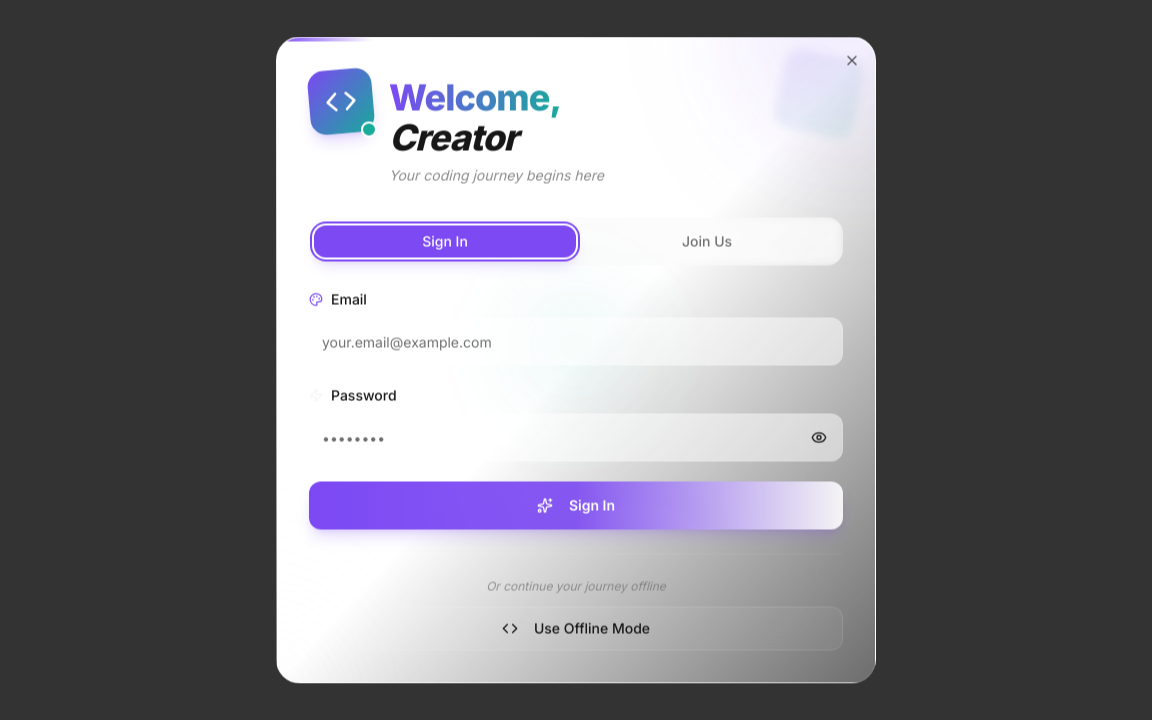
AuthModal › should handle login error
Type "wrong@example.com" into the field labelled "Email". click: point(576, 342)
box: top-left (309, 318), bottom-right (843, 366)
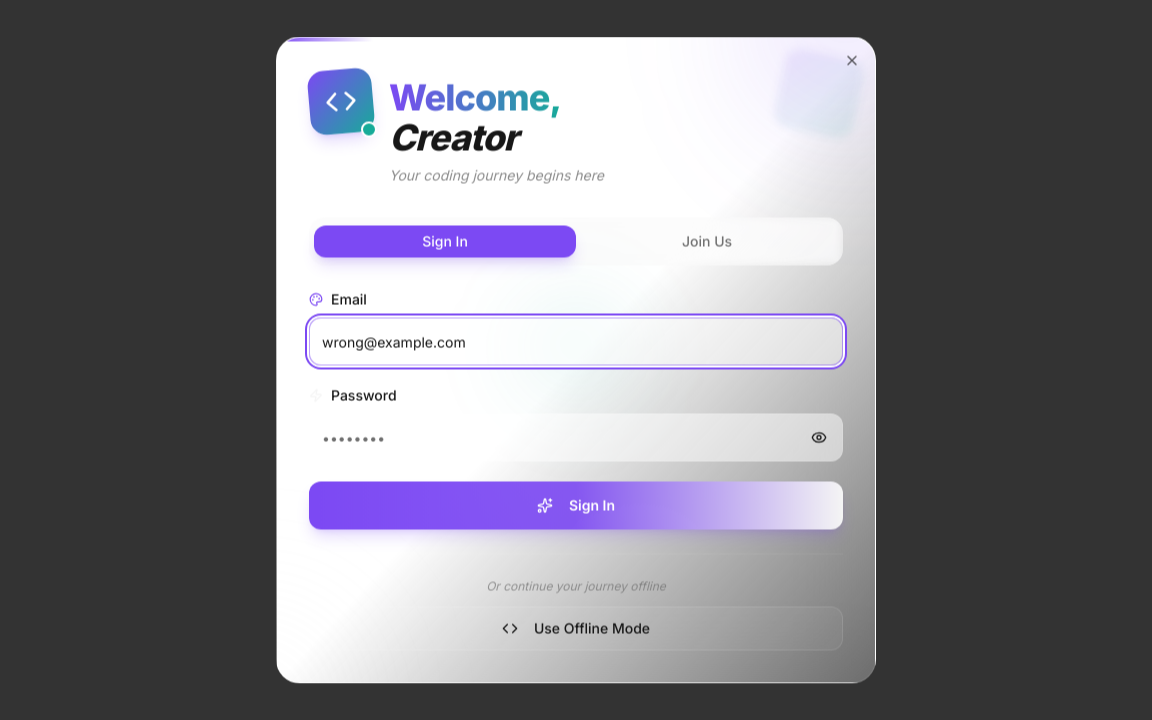
Type "wrongpassword" into the password field labelled "Password". click: point(576, 438)
box: top-left (309, 414), bottom-right (843, 462)
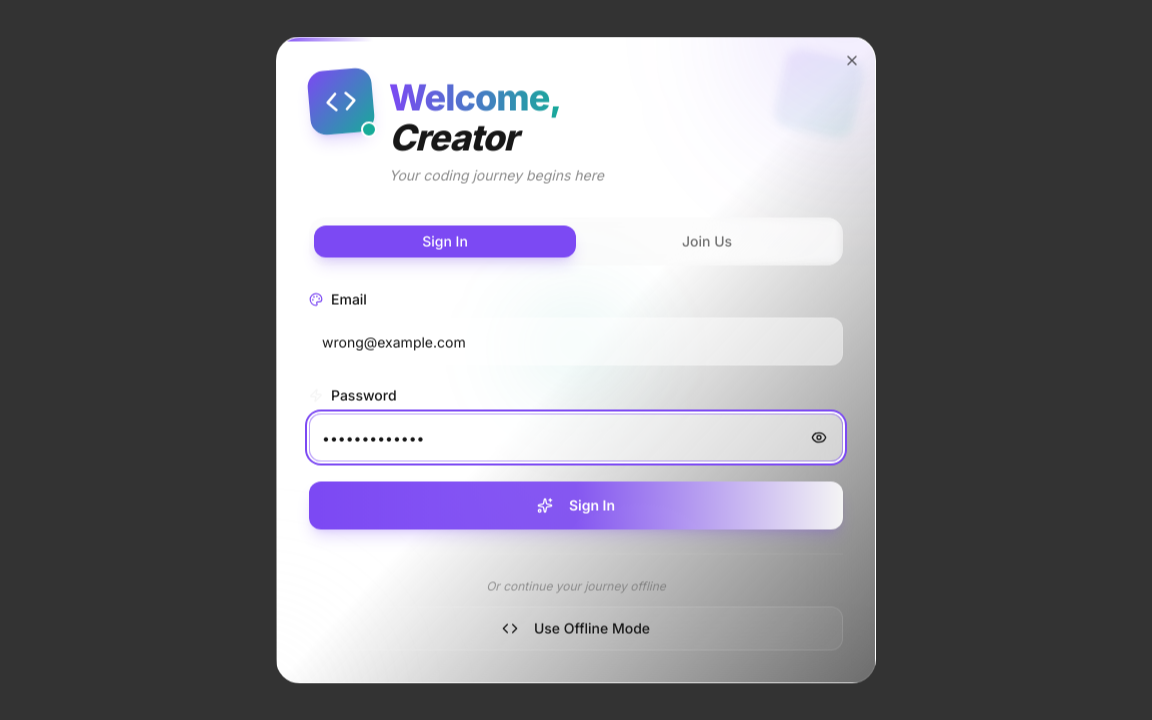
Click the button "Sign In". click: point(576, 506)
box: top-left (309, 482), bottom-right (843, 530)
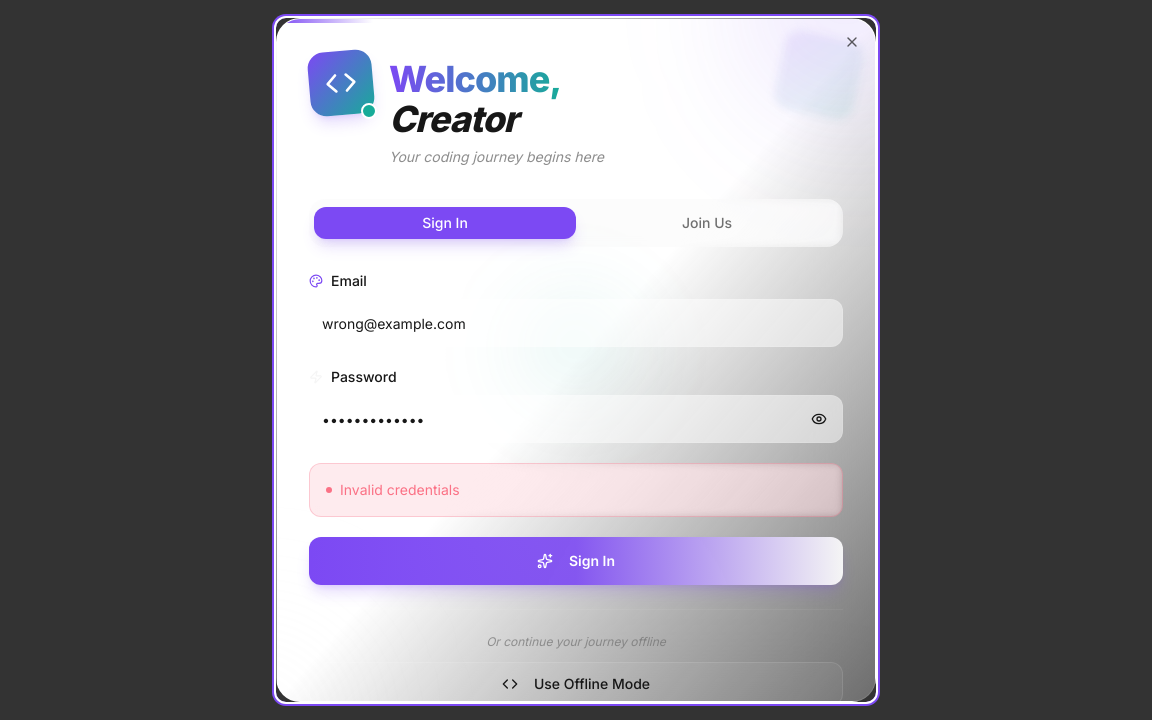
Expected: the text "Invalid credentials" is shown, top-left (326, 481), bottom-right (460, 498)
